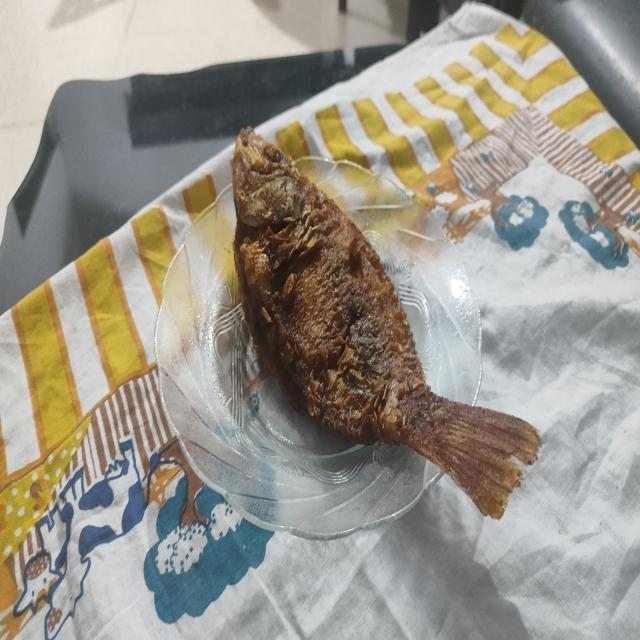ikan_mujair: (232, 127, 540, 518)
